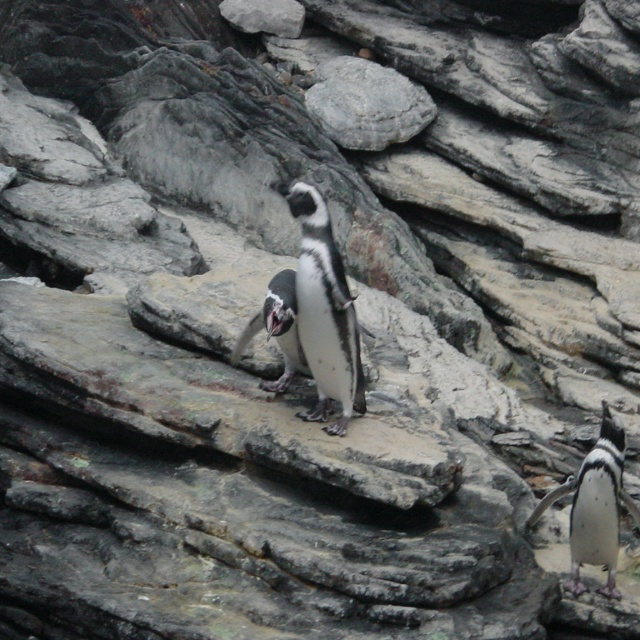Penguin: (256, 188, 377, 431), (518, 399, 636, 602), (232, 262, 318, 393)
